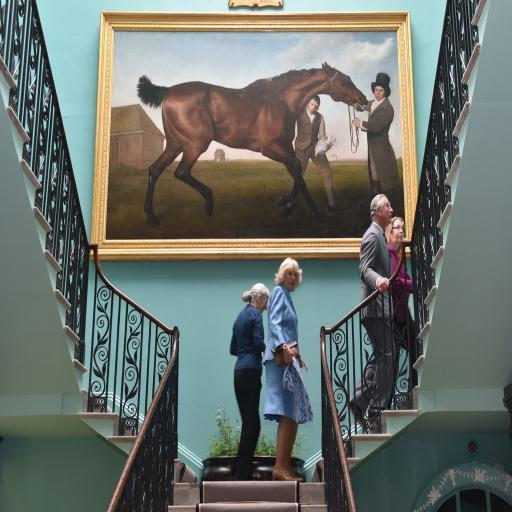horse: (136, 61, 368, 228)
